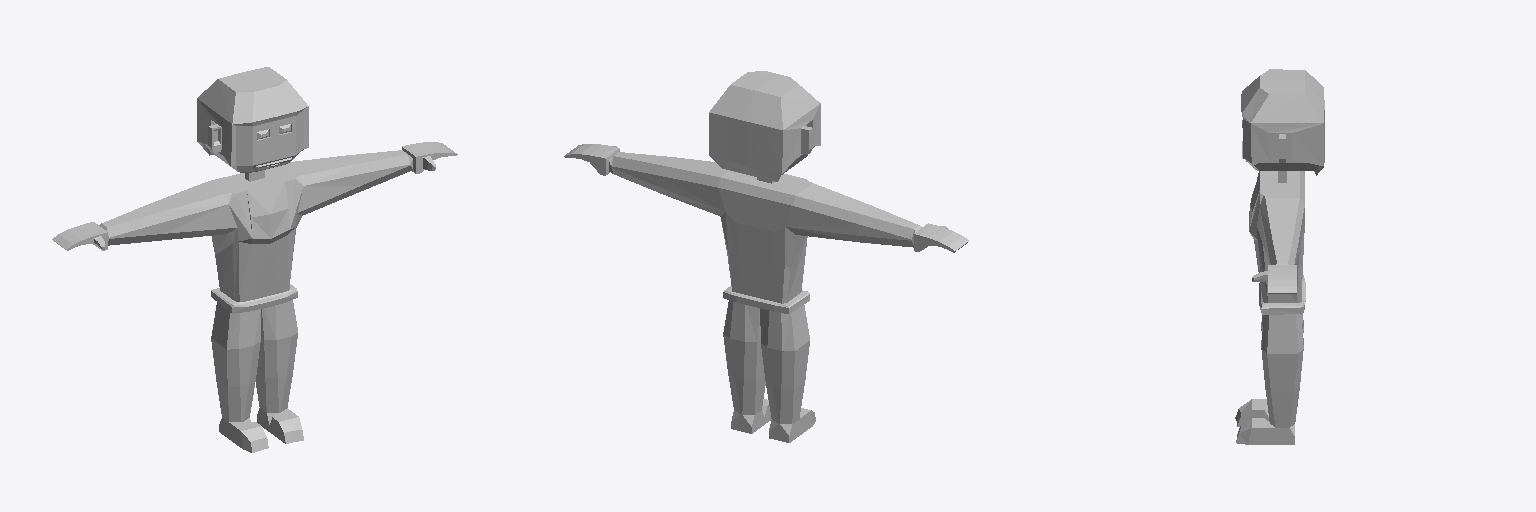
The model's file is citizen.obj.
3 views of the same model, side by side, from view 1: azimuth 30°, elevation 25°; view 2: azimuth 150°, elevation 25°; view 3: azimuth 270°, elevation 25° (orthographic).
Parts seen in each view (by area): view 1: simple_male_ch; view 2: simple_male_ch; view 3: simple_male_ch.
Boxes of the visible parts, box(x1,y1,x2,y2) form: simple_male_ch: box(52, 67, 457, 452); simple_male_ch: box(564, 71, 968, 442); simple_male_ch: box(1235, 69, 1324, 444).
Bounding box in the file's own units: 10.41 × 8.88 × 2.06.